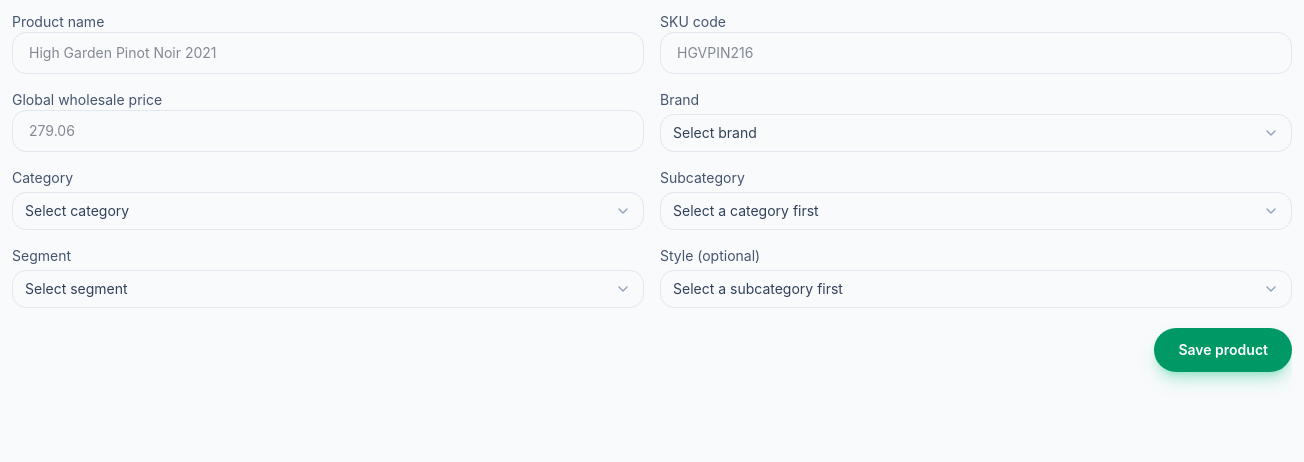
Scenario: ProductForm › shows required error when submitting empty form
What coordinates should you click on to do the following:
click the button "Save product"
I would click on:
 (1223, 350)
Its box is 1154,328 -> 1292,372.
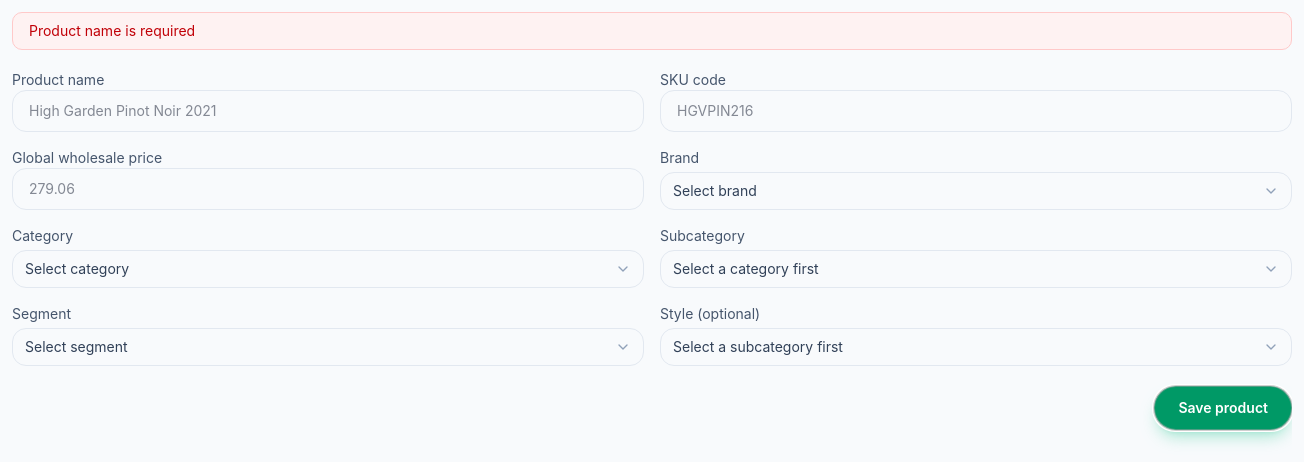
Check: the text "Product name is required" is shown, box 12,12 -> 1292,50
